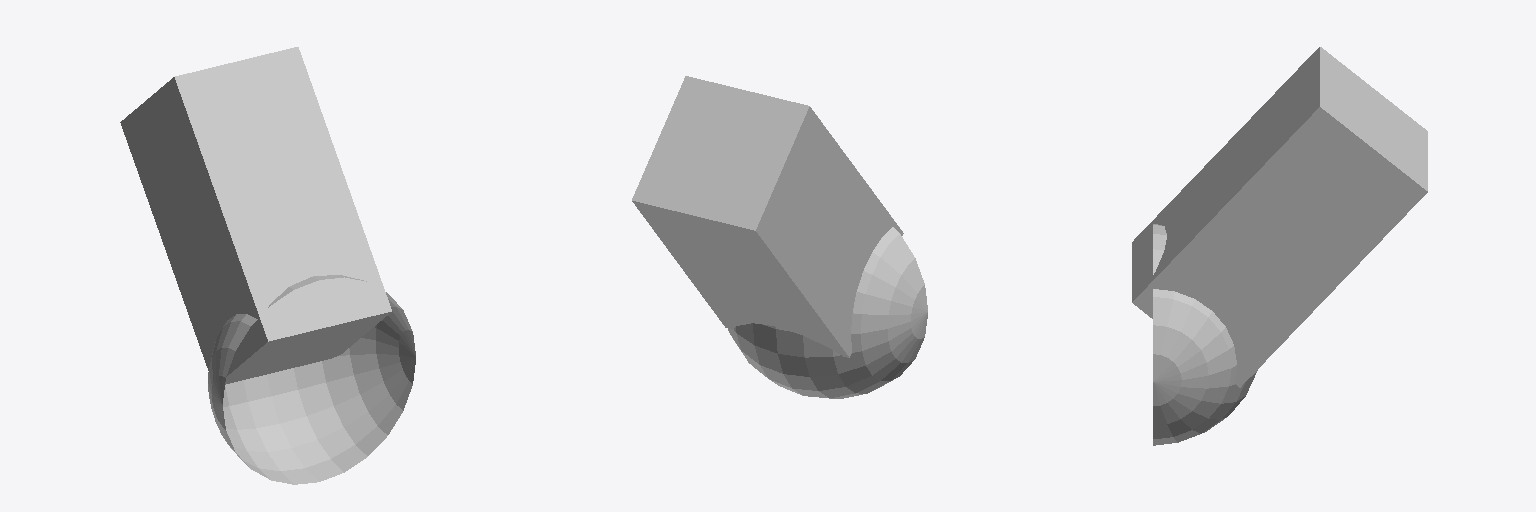
File: LightSwitch_obj_Switch PArt.obj
The picture shows the model from 3 angles: view 1: azimuth 30°, elevation 25°; view 2: azimuth 150°, elevation 25°; view 3: azimuth 270°, elevation 25°; orthographic projection.
Visible parts, largest first — view 1: LightSwitch_obj_Switch PArt.obj; view 2: LightSwitch_obj_Switch PArt.obj; view 3: LightSwitch_obj_Switch PArt.obj.
Part boxes in pixels (left/top/right/bottom): LightSwitch_obj_Switch PArt.obj: left=120, top=47, right=415, bottom=484; LightSwitch_obj_Switch PArt.obj: left=632, top=76, right=927, bottom=398; LightSwitch_obj_Switch PArt.obj: left=1132, top=47, right=1427, bottom=445.
Bounding box in the file's own units: 14.04 × 24.9 × 18.6.